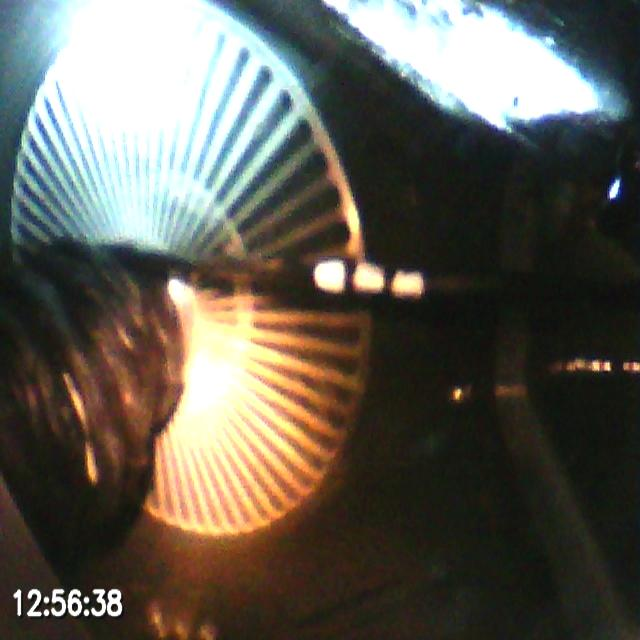white-dots: (313, 258, 425, 300)
